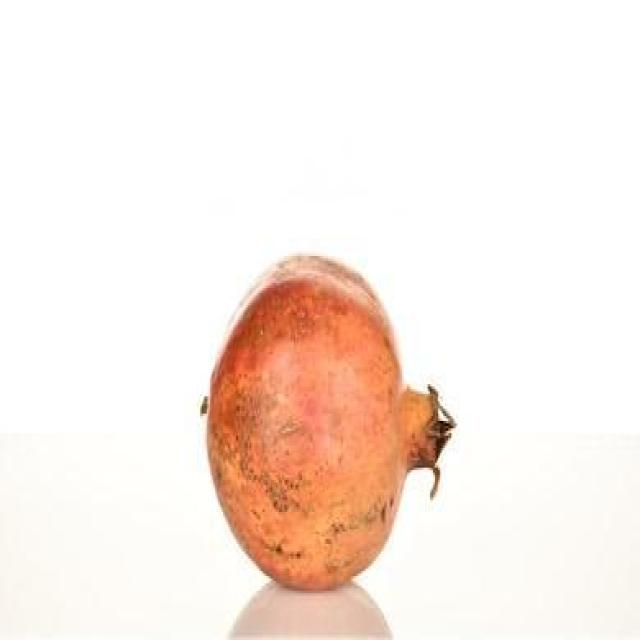Pomegranate: (198, 248, 457, 595)
